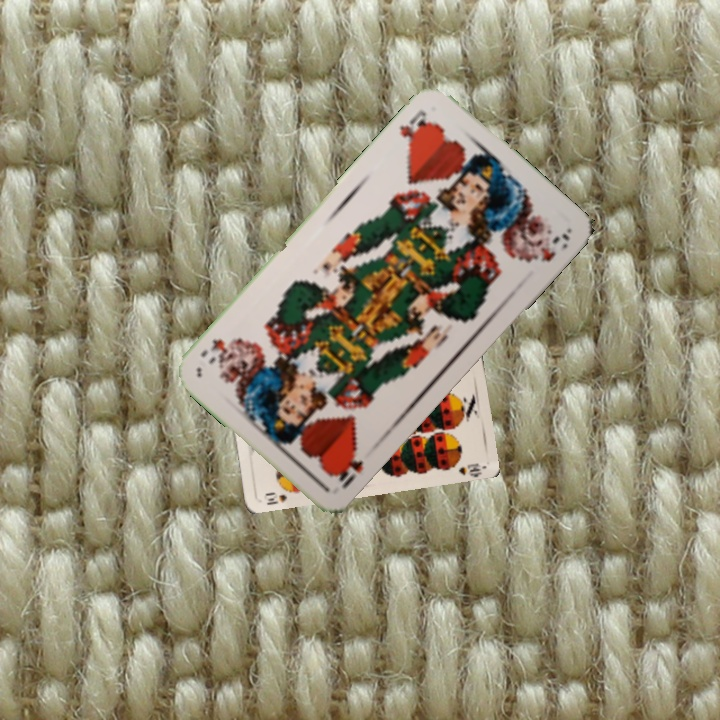HO: (395, 106, 434, 150), (331, 449, 366, 492)
S10: (261, 485, 298, 508)
